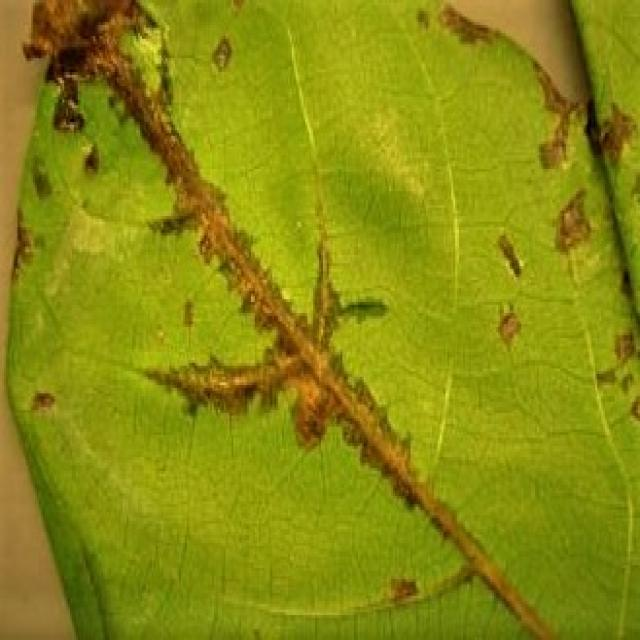Bacterial Blight: (2, 0, 638, 637)
Cotton Ball Rot: (490, 225, 529, 286), (490, 299, 527, 355), (207, 28, 238, 80)
